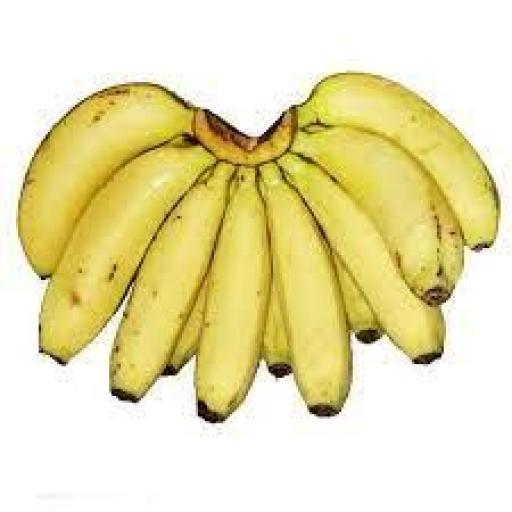banana: (39, 142, 213, 361), (299, 73, 498, 250), (280, 155, 443, 364), (19, 85, 193, 277), (294, 128, 464, 304), (110, 162, 234, 400), (260, 162, 352, 416), (196, 167, 270, 423)
